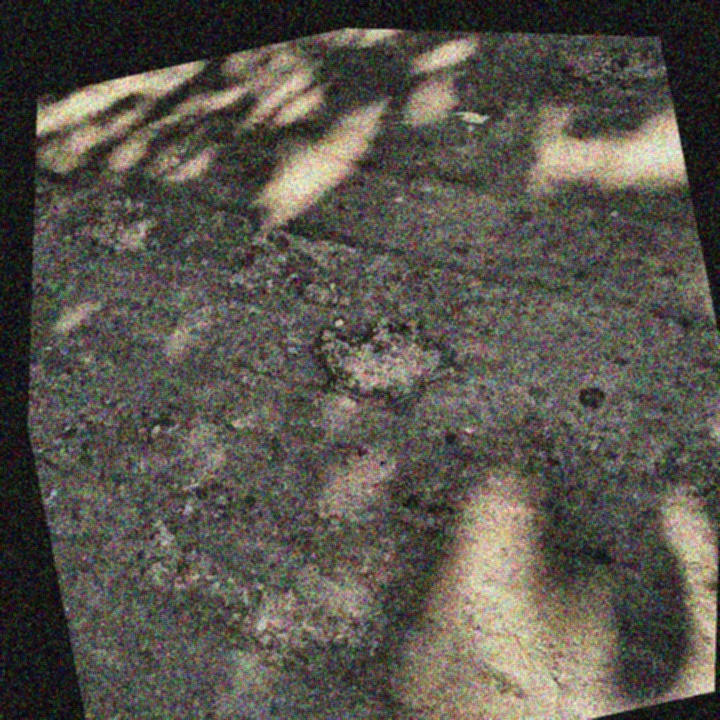pothole: (302, 293, 464, 424), (530, 33, 670, 111)
